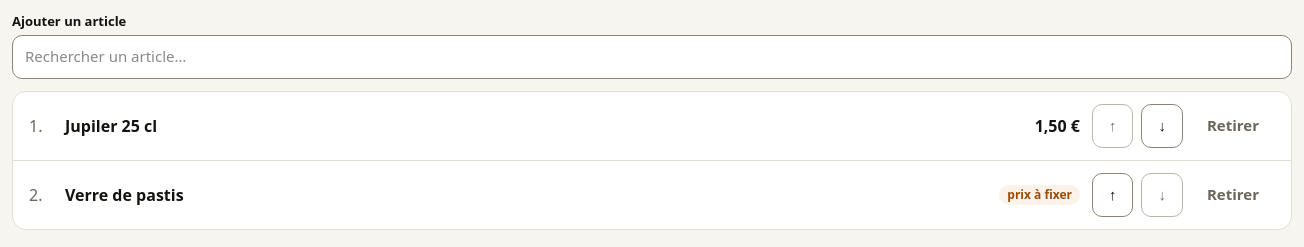
Scenario: MenuEditor › searches only the active items off the menu
Type "t" into the dropdown labelled "Ajouter un article" at (652, 57), box [12,35,1292,79]
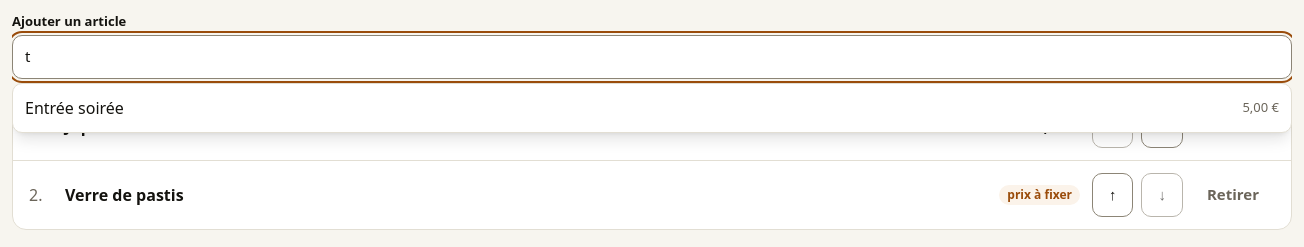
expect the number of options is 1: met, box [25,97,1279,119]
expect the option shows "Entrée soirée": met, box [25,97,1279,119]
expect the option shows "5,00 €": met, box [25,97,1279,119]
